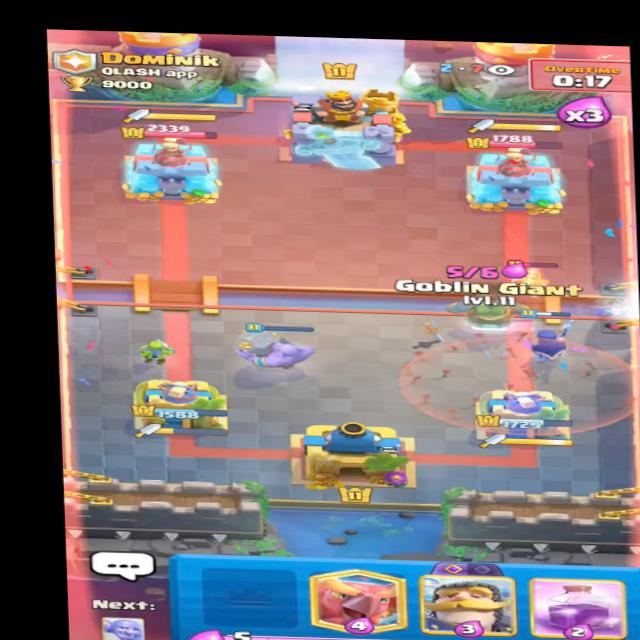arrows: (403, 324, 640, 443)
wizard: (501, 258, 573, 299)
